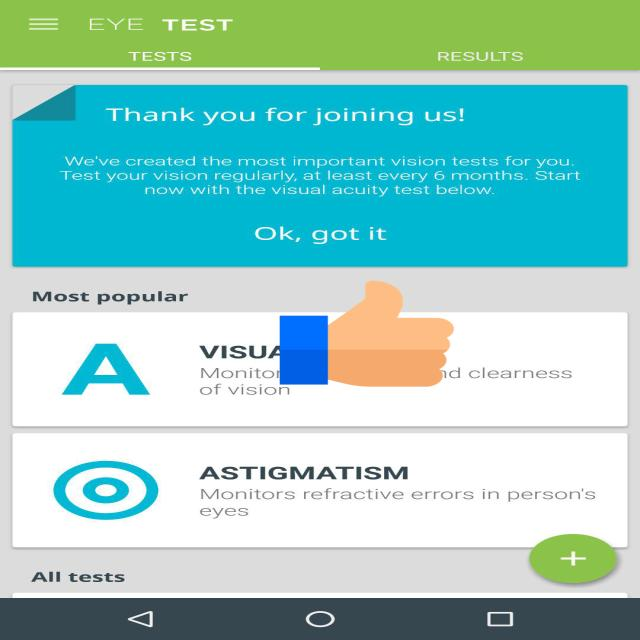privacy zuckering: (280, 278, 454, 389)
